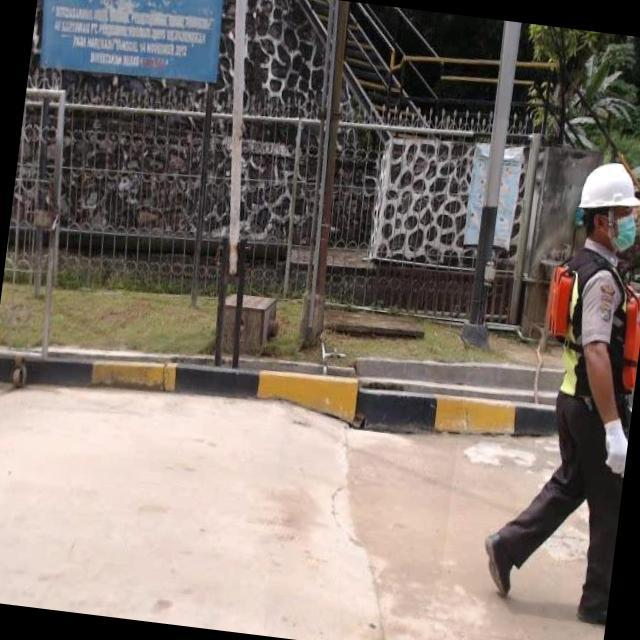Gloves: (598, 415, 629, 487)
Helmet: (576, 152, 640, 216)
Person: (467, 129, 634, 633)
Safety Boot: (477, 523, 525, 603), (573, 604, 615, 627)
Safety Vest: (539, 247, 640, 400)
